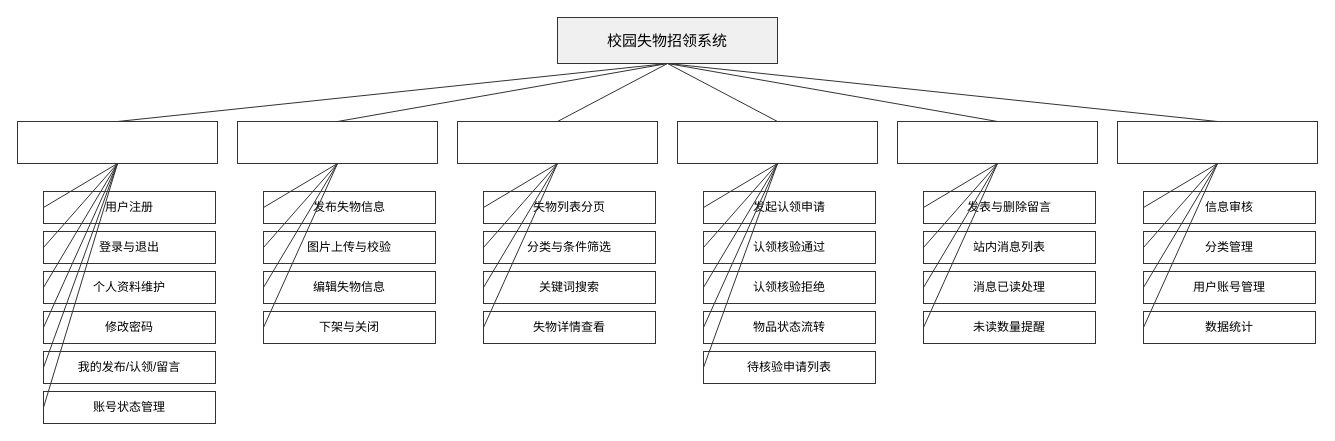
Some shapes in this 1335 by 441 pixel diagram are drawn without their labels. Each missing label, with the box of its shape:
M1 用户管理: (16, 120, 218, 164)
M2 失物信息管理: (236, 120, 438, 164)
M3 浏览与检索: (456, 120, 658, 164)
M4 认领与归还: (676, 120, 878, 164)
M5 留言与消息: (896, 120, 1098, 164)
M6 管理后台: (1116, 120, 1318, 164)
